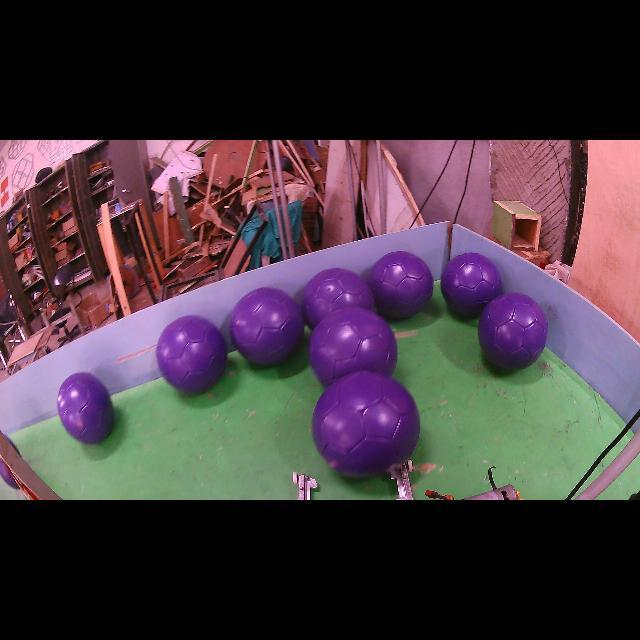P: (312, 371, 420, 478), (309, 308, 398, 385), (230, 288, 305, 365), (156, 315, 226, 394), (478, 292, 548, 370), (301, 268, 374, 329), (369, 251, 434, 319), (58, 372, 114, 444), (441, 252, 502, 317)
